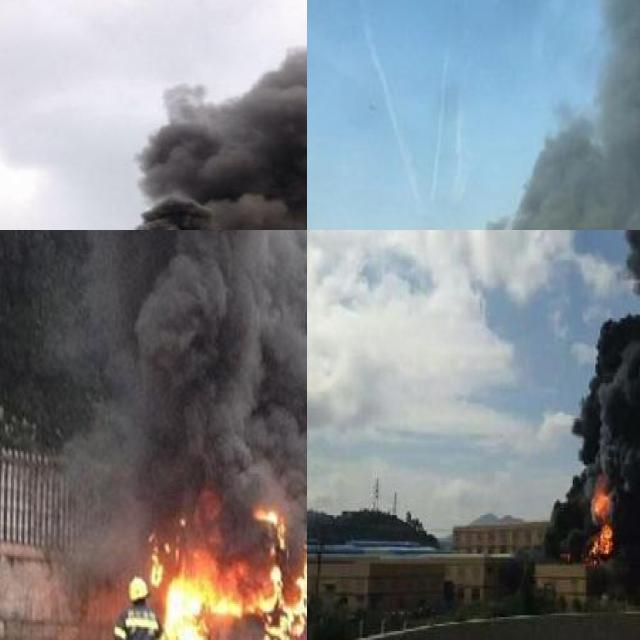fire: (146, 502, 307, 640), (589, 485, 613, 556)
smoke: (56, 230, 307, 546), (10, 0, 307, 230), (484, 0, 640, 230), (543, 230, 640, 559)
